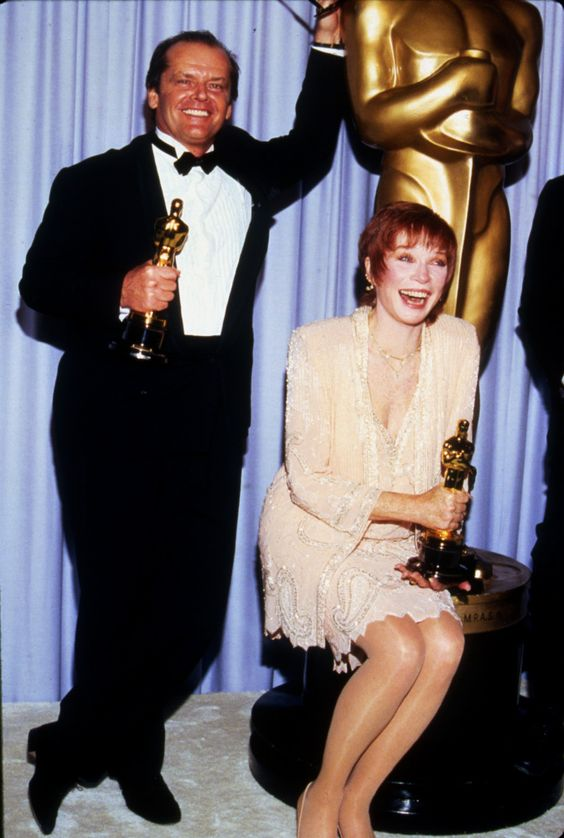hand: (125, 256, 173, 304)
